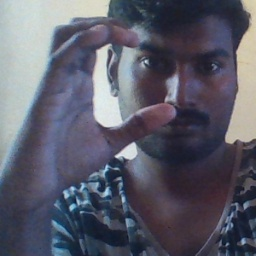C: (44, 10, 180, 150)
